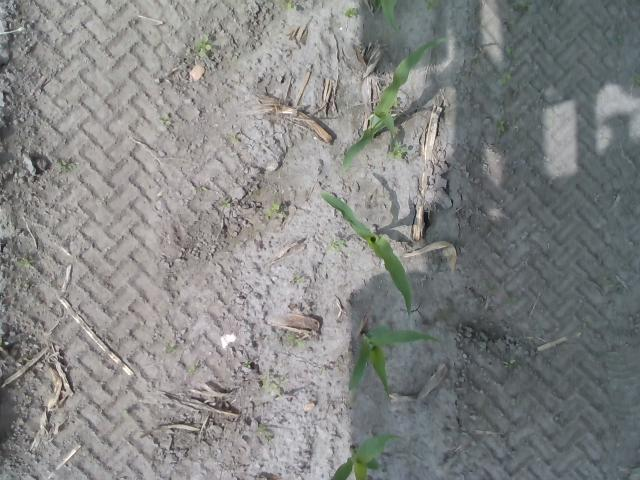Maize: (341, 36, 447, 175), (318, 188, 412, 316), (348, 329, 442, 401), (328, 429, 404, 480), (378, 0, 404, 30)
Weeds: (386, 138, 411, 160), (492, 120, 509, 145), (195, 35, 213, 57), (284, 333, 306, 350), (265, 201, 286, 218), (262, 372, 279, 393), (57, 160, 78, 172), (256, 424, 275, 437), (156, 113, 172, 126), (498, 70, 511, 86), (426, 0, 442, 13), (330, 238, 346, 250), (162, 342, 179, 353), (279, 0, 296, 11), (343, 6, 358, 18), (504, 358, 516, 368), (244, 360, 252, 370), (393, 98, 399, 108)
